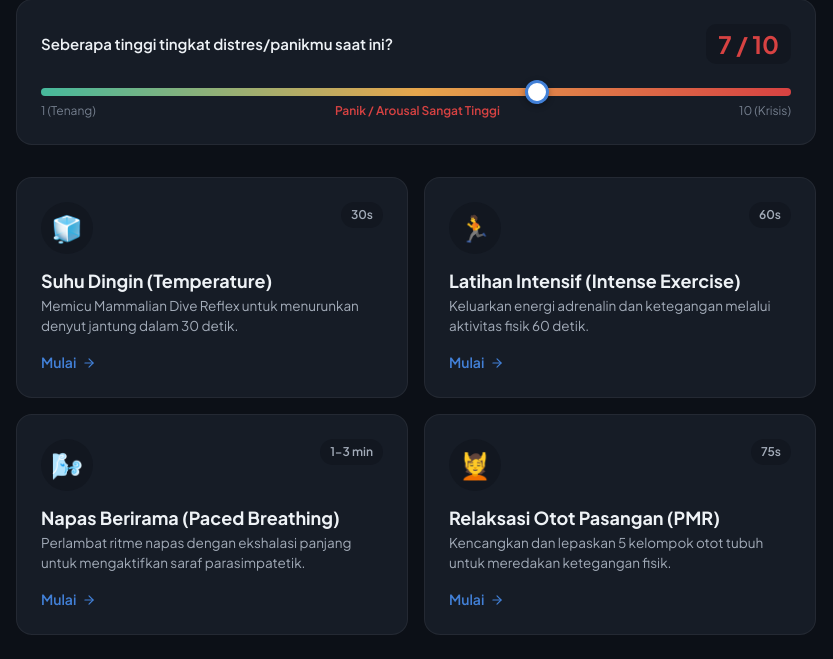
Test: TippCrisisHub Component › opens PMR module and allows toggling through body zones
The width and height of the screenshot is (833, 659).
(page scrolled)
What coordinates should you click on to do the following:
click the button "Relaksasi Otot Pasangan (PMR)"
I would click on:
 (620, 525)
Its box is [424,414,816,635].
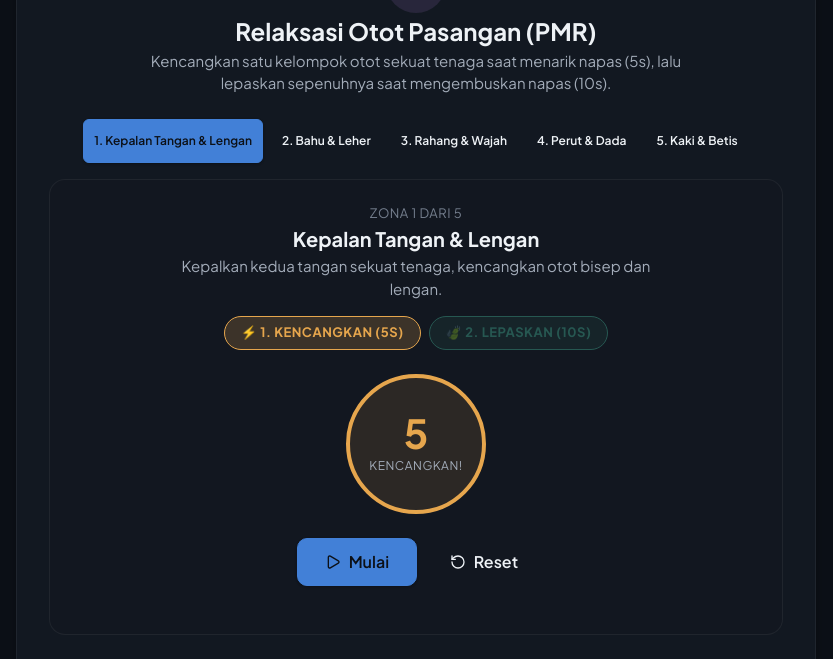
Expected: the heading "Relaksasi Otot Pasangan (PMR)" is shown, [235,16,597,46]
Expected: the heading "Kepalan Tangan & Lengan" is shown, [293,226,539,251]
Note: Click shoulder zone button
What coordinates should you click on to do the following:
click the button "2. Bahu & Leher"
I would click on:
 (326, 141)
Its box is [271,119,382,163].
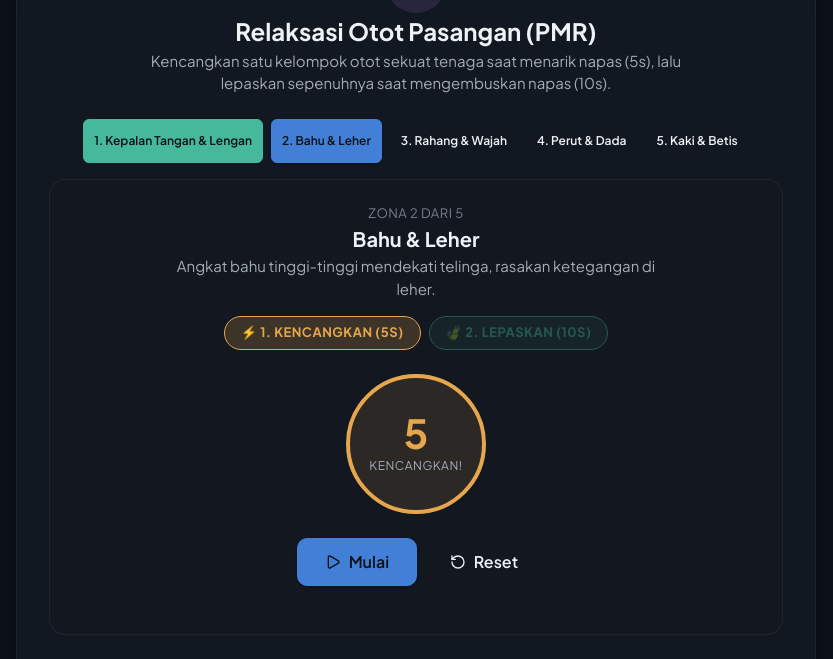
Expected: the text "Angkat bahu tinggi-tinggi" is shown, [177,256,655,298]
